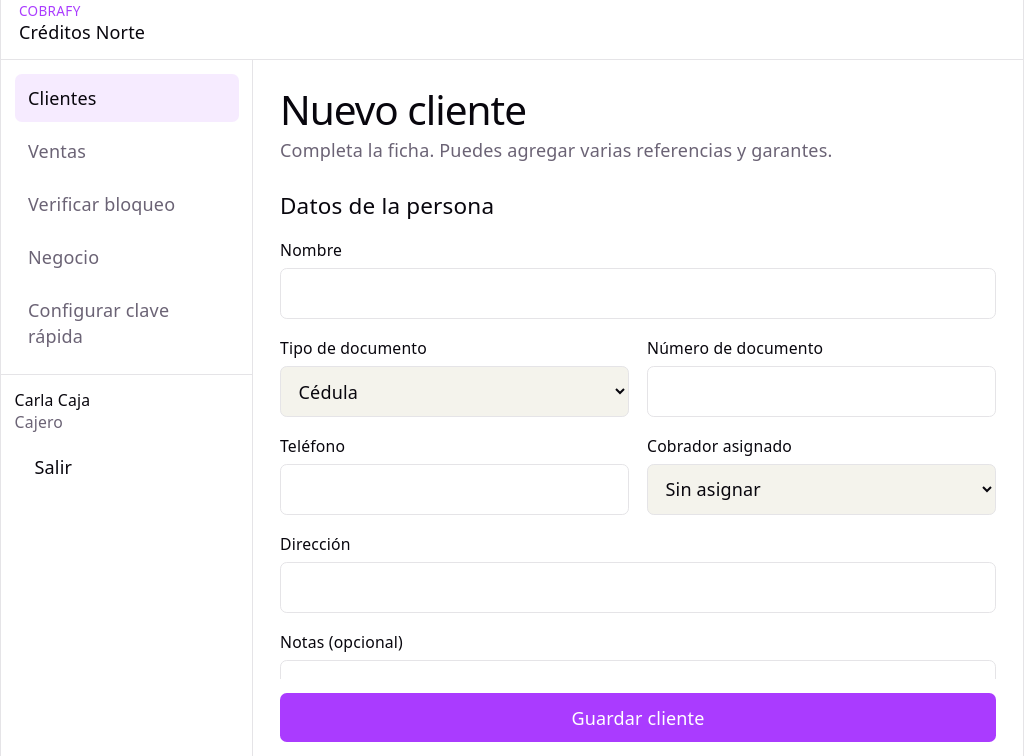
Test: CBF-215 errores de documento en el campo › documento inválido en POST /clients va al input del cliente
Expected: the heading "Nuevo cliente" is shown, x1=280 y1=82 x2=526 y2=137
Type "Ana Pérez" into the field labelled "Nombre" at (638, 294), box x1=280 y1=268 x2=996 y2=319
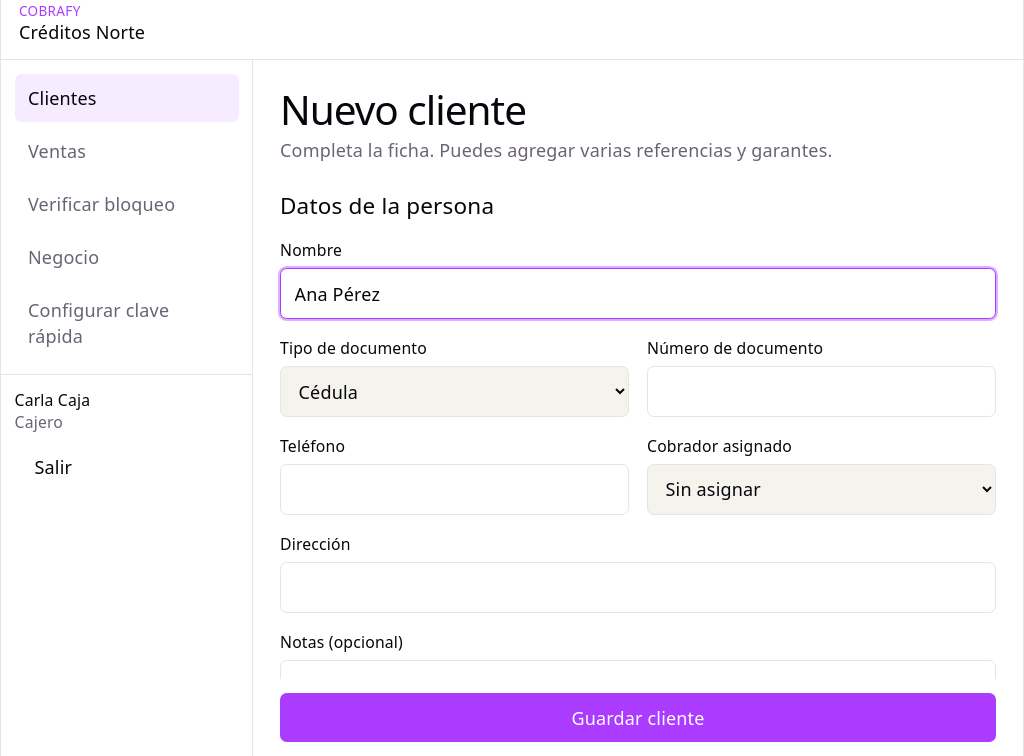
Type "001-1111111-1" into the field labelled "Número de documento" at (822, 392), box x1=647 y1=366 x2=996 y2=417
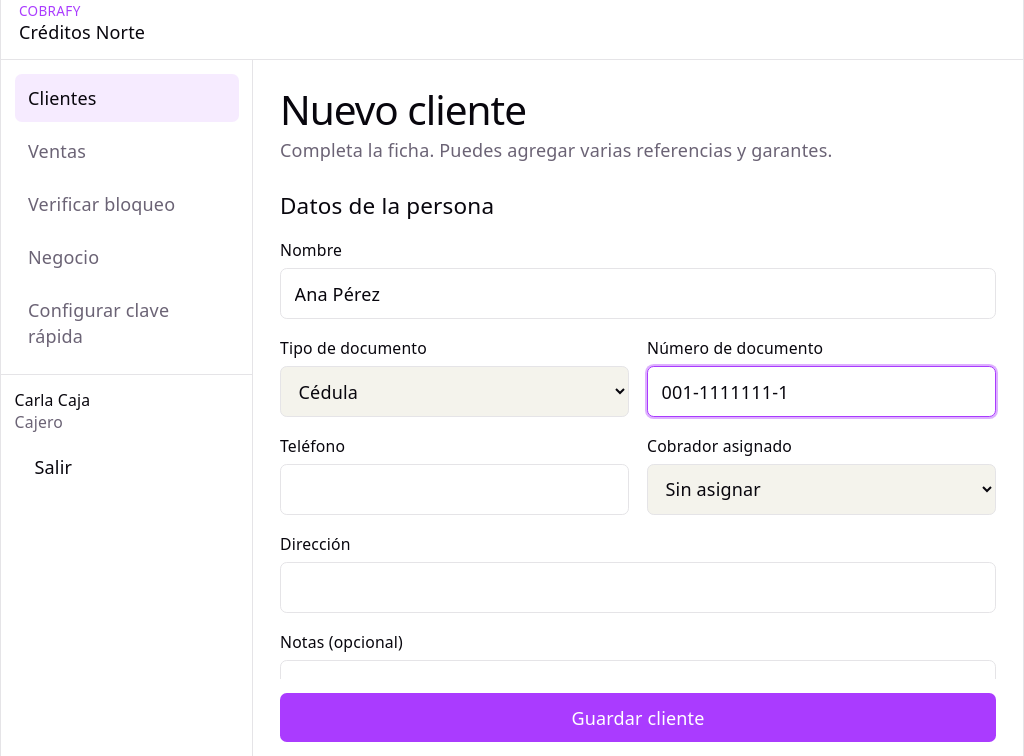
Type "8095551111" into the field labelled "Teléfono" at (454, 489), box x1=280 y1=464 x2=629 y2=515
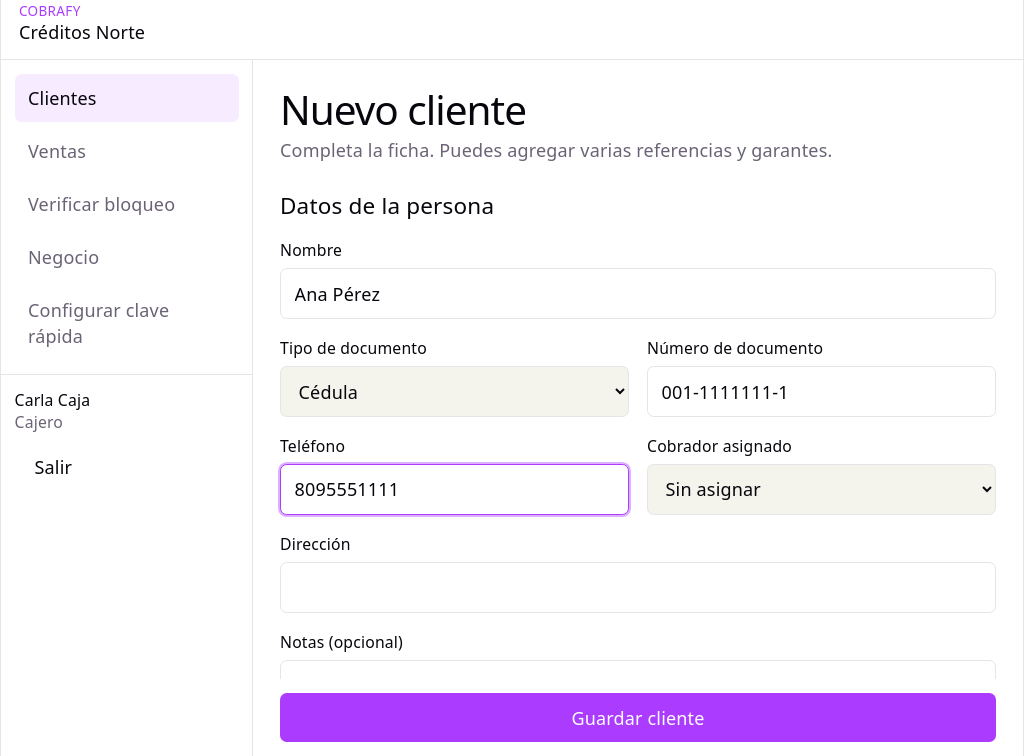
Type "Calle 1" into the field labelled "Dirección" at (638, 587), box x1=280 y1=562 x2=996 y2=613
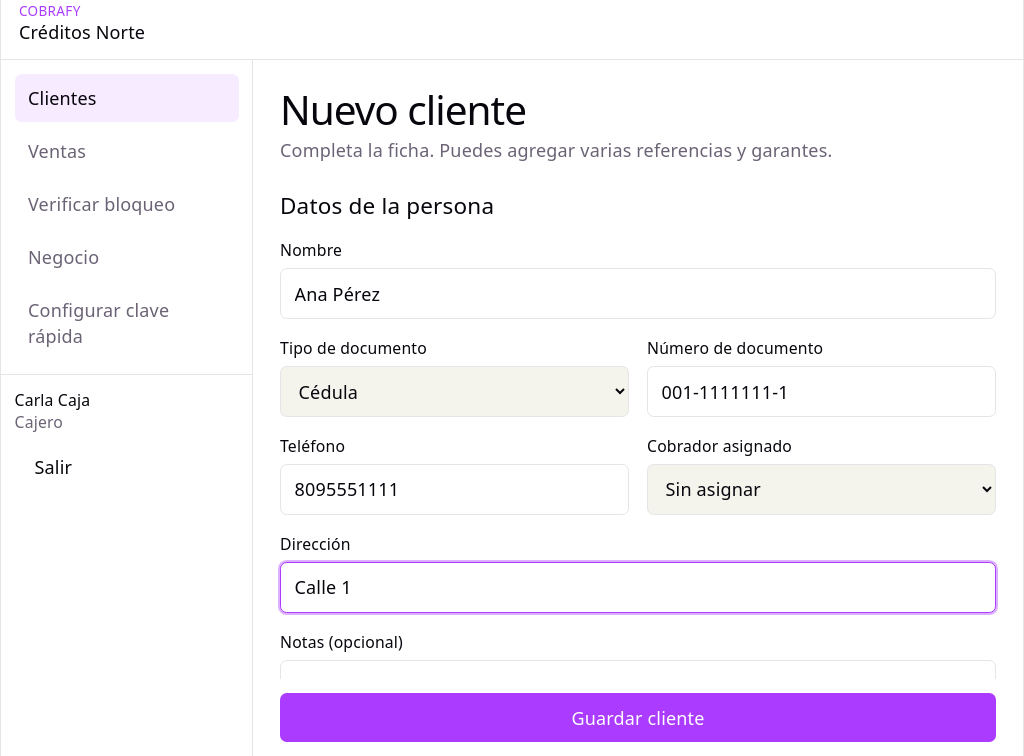
Click the button "Guardar cliente" at (638, 718), box x1=280 y1=693 x2=996 y2=742
(page scrolled)
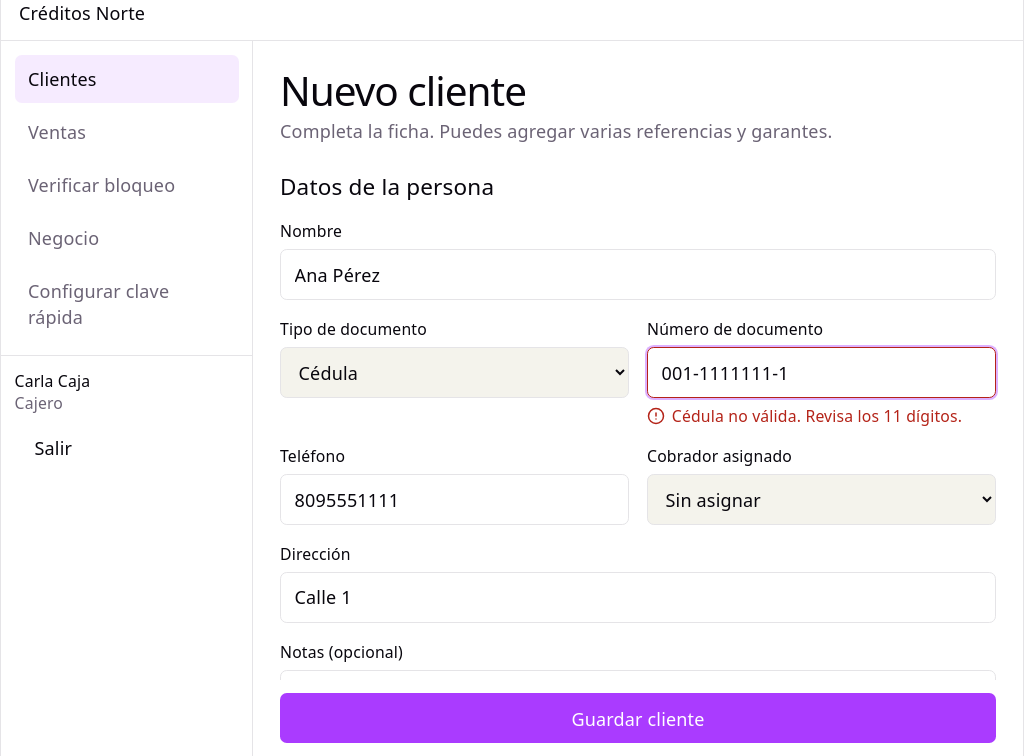
Expected: the message with id "document-error" reads "Cédula no válida. Revisa los 11 dígitos.", x1=672 y1=405 x2=962 y2=427
